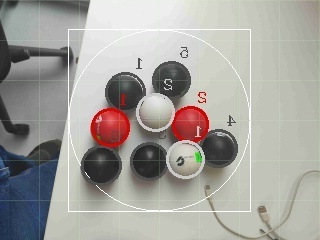Pelota blanca: (285, 167, 320, 240), (105, 71, 147, 111), (168, 139, 207, 180), (135, 93, 175, 132)
Pelota negra: (105, 71, 147, 111), (80, 145, 123, 184), (151, 59, 191, 99), (201, 127, 239, 168), (130, 141, 169, 180), (0, 19, 11, 84)
Pelota roja: (90, 105, 131, 148), (171, 105, 211, 142)
